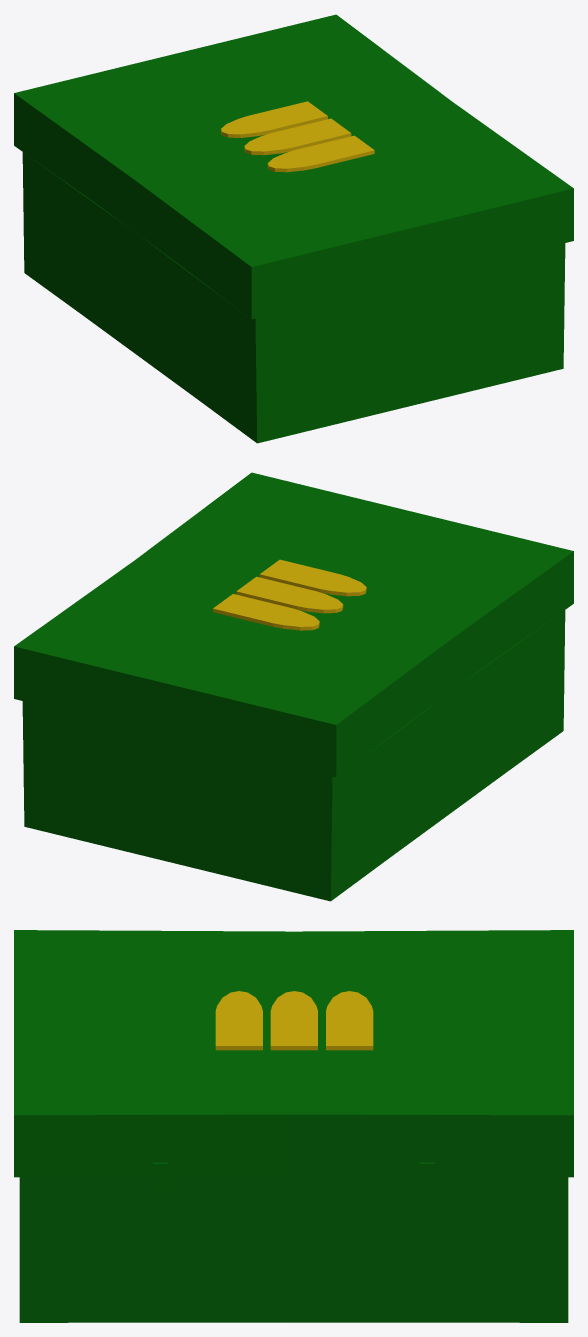
The model's file is Ammo.fbx.
3 renders of one model, top to bottom at view 1: azimuth 30°, elevation 25°; view 2: azimuth 150°, elevation 25°; view 3: azimuth 270°, elevation 25°, orthographic. The views are drawn at different scales.
Visible parts, largest first — view 1: Cube, Plane.002, Plane.001, Plane; view 2: Cube, Plane.001, Plane, Plane.002; view 3: Cube, Plane.002, Plane, Plane.001.
Part boxes in pixels (bbox=[...]): Cube: bbox=[14, 14, 573, 443]; Plane.002: bbox=[267, 135, 374, 172]; Plane.001: bbox=[221, 101, 327, 137]; Plane: bbox=[244, 118, 351, 155]; Cube: bbox=[14, 472, 573, 901]; Plane.001: bbox=[213, 594, 319, 630]; Plane: bbox=[236, 576, 343, 613]; Plane.002: bbox=[259, 559, 366, 596]; Cube: bbox=[14, 930, 573, 1322]; Plane.002: bbox=[215, 991, 262, 1050]; Plane: bbox=[270, 991, 317, 1050]; Plane.001: bbox=[326, 991, 373, 1050].
Bounding box in the file's own units: 211 × 115 × 269.
